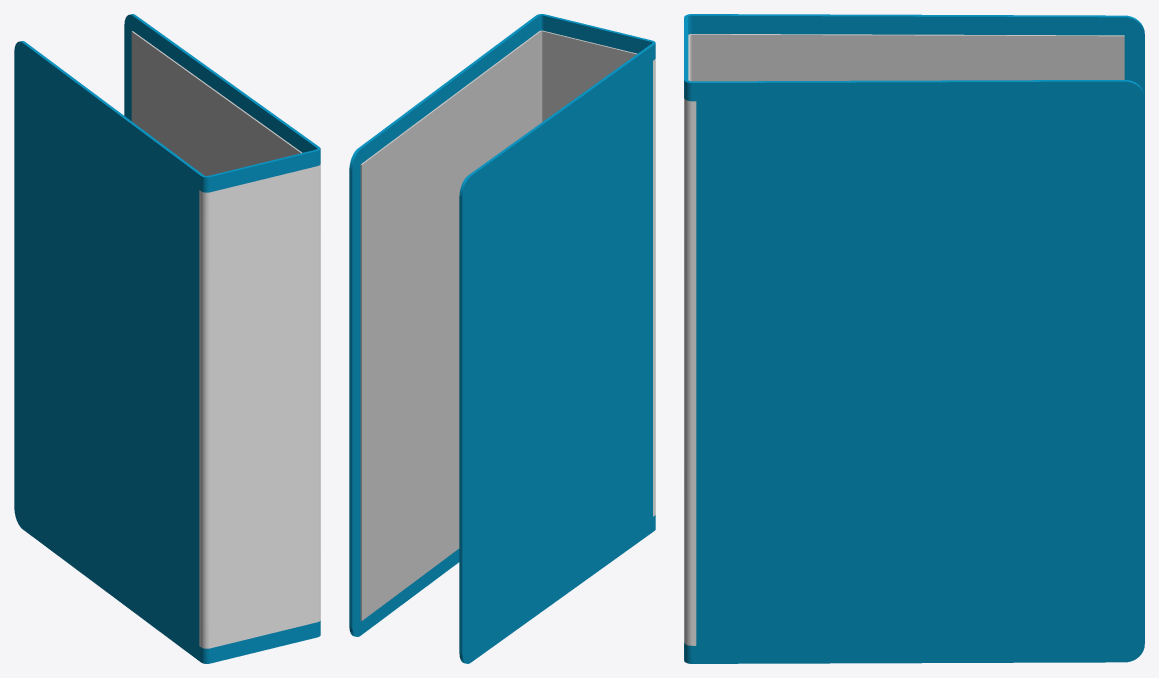
The model's file is 449_パイプ式ファイル中.glb.
3 views of the same model, side by side, from view 1: azimuth 30°, elevation 25°; view 2: azimuth 150°, elevation 25°; view 3: azimuth 270°, elevation 25° (orthographic). The views are drawn at different scales.
Visible parts, largest first — view 1: 449_pipe_file_M; view 2: 449_pipe_file_M; view 3: 449_pipe_file_M.
Boxes of the visible parts, x1,y1,x2,y2 form: 449_pipe_file_M: [14, 14, 320, 663]; 449_pipe_file_M: [349, 14, 655, 663]; 449_pipe_file_M: [684, 14, 1144, 663].
Bounding box in the file's own units: 0.0816 × 0.32 × 0.23.
